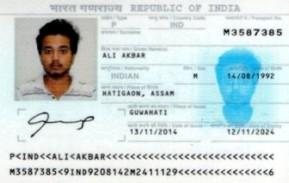DOB: (224, 72, 275, 80)
country_code: (168, 21, 188, 32)
date_of_expiry: (223, 126, 276, 138)
date_of_issue: (129, 128, 182, 137)
details: (6, 151, 278, 180)
name: (99, 51, 146, 60)
nationality: (102, 71, 161, 81)
passport_no: (223, 26, 287, 37)
photo: (12, 17, 95, 100)
place_of_birth: (98, 89, 192, 99)
place_of_issue: (130, 108, 168, 117)
sex: (190, 73, 199, 79)
sign: (26, 111, 98, 135)
type: (110, 20, 119, 29)
